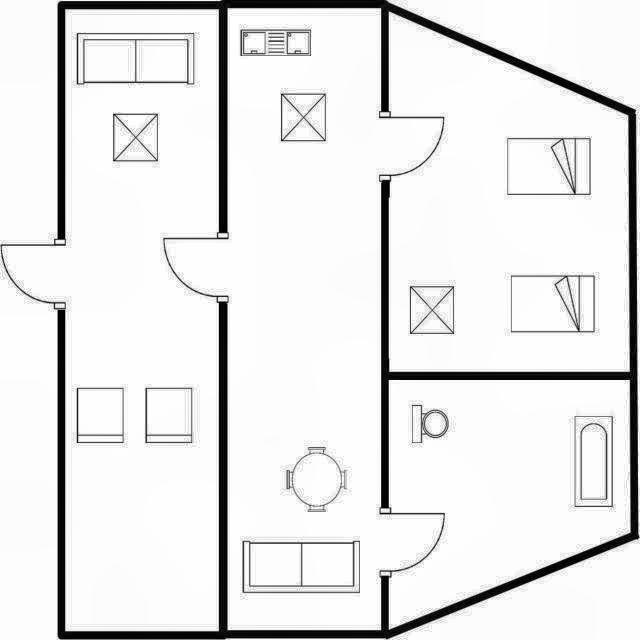room: (227, 8, 381, 630), (65, 10, 219, 631), (388, 11, 630, 372), (387, 378, 632, 629)
